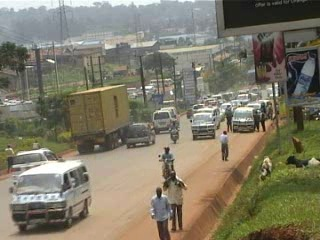Car: (9, 146, 68, 189), (124, 116, 157, 150), (218, 102, 235, 117), (184, 104, 194, 120), (216, 107, 223, 123)
Motorcycle: (167, 118, 181, 146)
